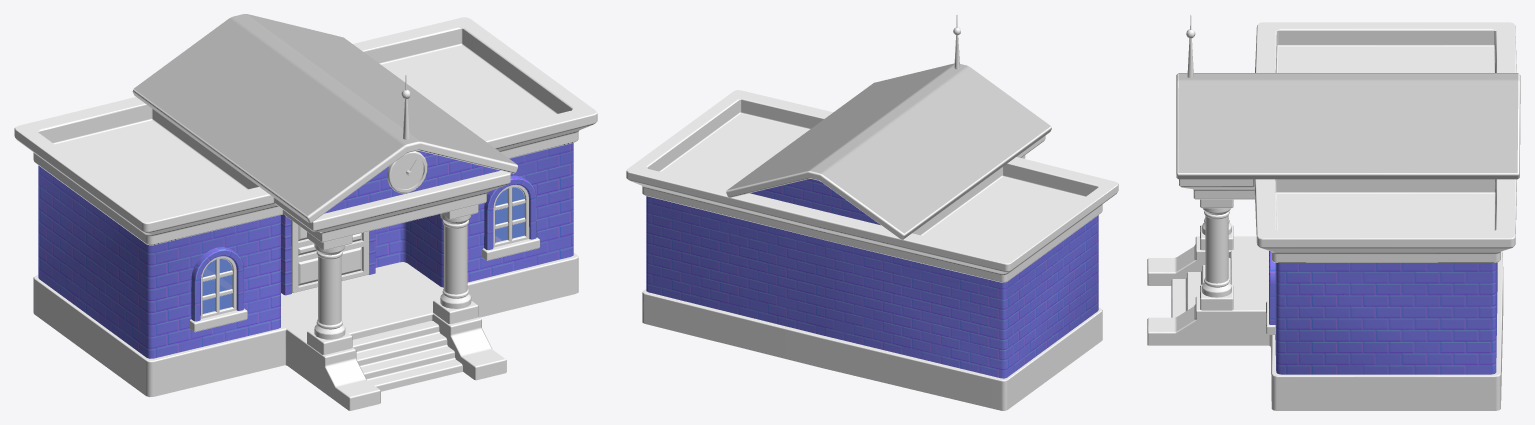
Rendered from CommunityCentre.fbx.
The picture shows the model from 3 angles, left to right: view 1: azimuth 30°, elevation 25°; view 2: azimuth 150°, elevation 25°; view 3: azimuth 270°, elevation 25°; orthographic projection. The views are drawn at different scales.
Visible parts, largest first — view 1: Cube.261, Roof.005, Cube.265, Pillar.003, Stairs.003, Cube.263, Cube.266, RoofBit.003, Cylinder.017, Plane.049, Cylinder.014, Cube.264; view 2: Cube.261, Cube.265, Roof.005, RoofBit.003; view 3: Cube.261, Roof.005, Cube.265, Pillar.003, Stairs.003, Cube.263.
Boxes of the visible parts, x1,y1,x2,y2 form: Cube.261: (14,17,597,410); Roof.005: (132,14,518,222); Cube.265: (38,143,573,358); Pillar.003: (307,204,478,354); Stairs.003: (352,321,462,391); Cube.263: (189,175,540,332); Cube.266: (291,220,369,292); RoofBit.003: (324,151,499,213); Cylinder.017: (200,185,529,318); Plane.049: (202,187,524,313); Cylinder.014: (387,151,427,193); Cube.264: (281,214,375,295); Cube.261: (626,90,1118,410); Cube.265: (646,196,1098,378); Roof.005: (726,63,1051,239); RoofBit.003: (750,179,880,225); Cube.261: (1147,22,1516,410); Roof.005: (1176,73,1520,179); Cube.265: (1275,262,1497,374); Pillar.003: (1200,199,1233,310); Stairs.003: (1171,258,1230,317); Cube.263: (1266,251,1275,334).
Bounding box in the file's own units: 1596 × 1012 × 1164.
